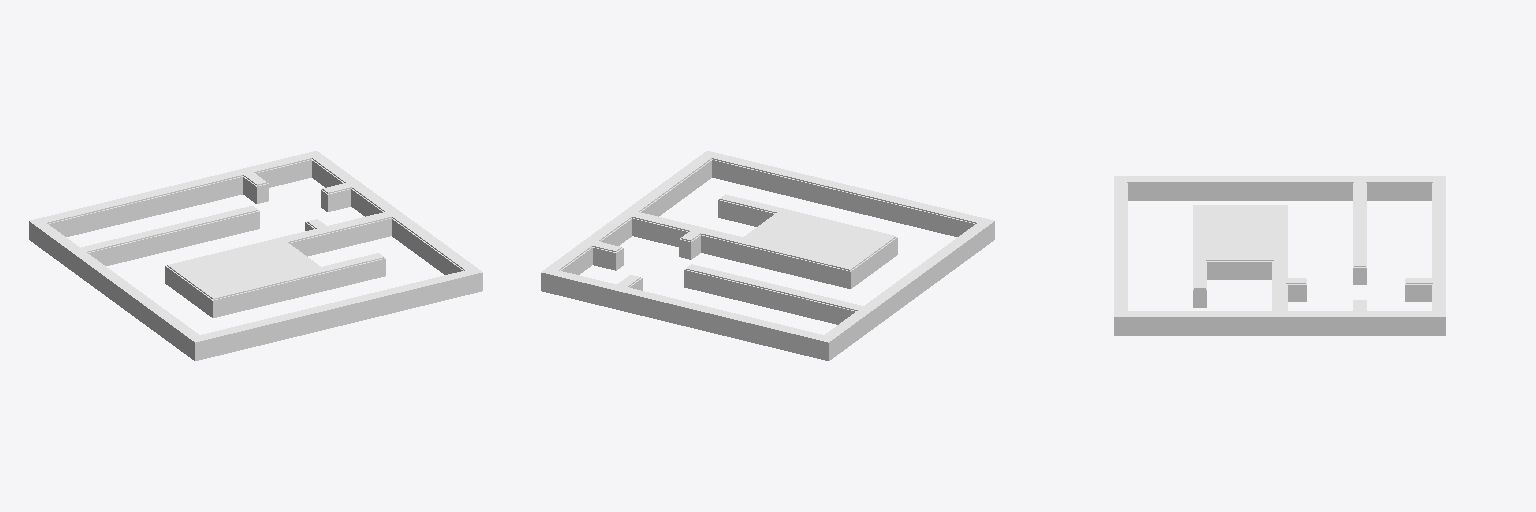
Rendered from stage6-2-0-Stage6-2.obj.
3 renders of one model, left to right at view 1: azimuth 30°, elevation 25°; view 2: azimuth 150°, elevation 25°; view 3: azimuth 270°, elevation 25°, orthographic.
Visible parts, largest first — view 1: Stage6-2; view 2: Stage6-2; view 3: Stage6-2.
Part boxes in pixels (left/top/right/bottom): Stage6-2: left=29, top=151, right=482, bottom=360; Stage6-2: left=541, top=151, right=994, bottom=360; Stage6-2: left=1114, top=176, right=1445, bottom=335.
Size of the model in its own units: 25.6 by 1.6 by 25.6.